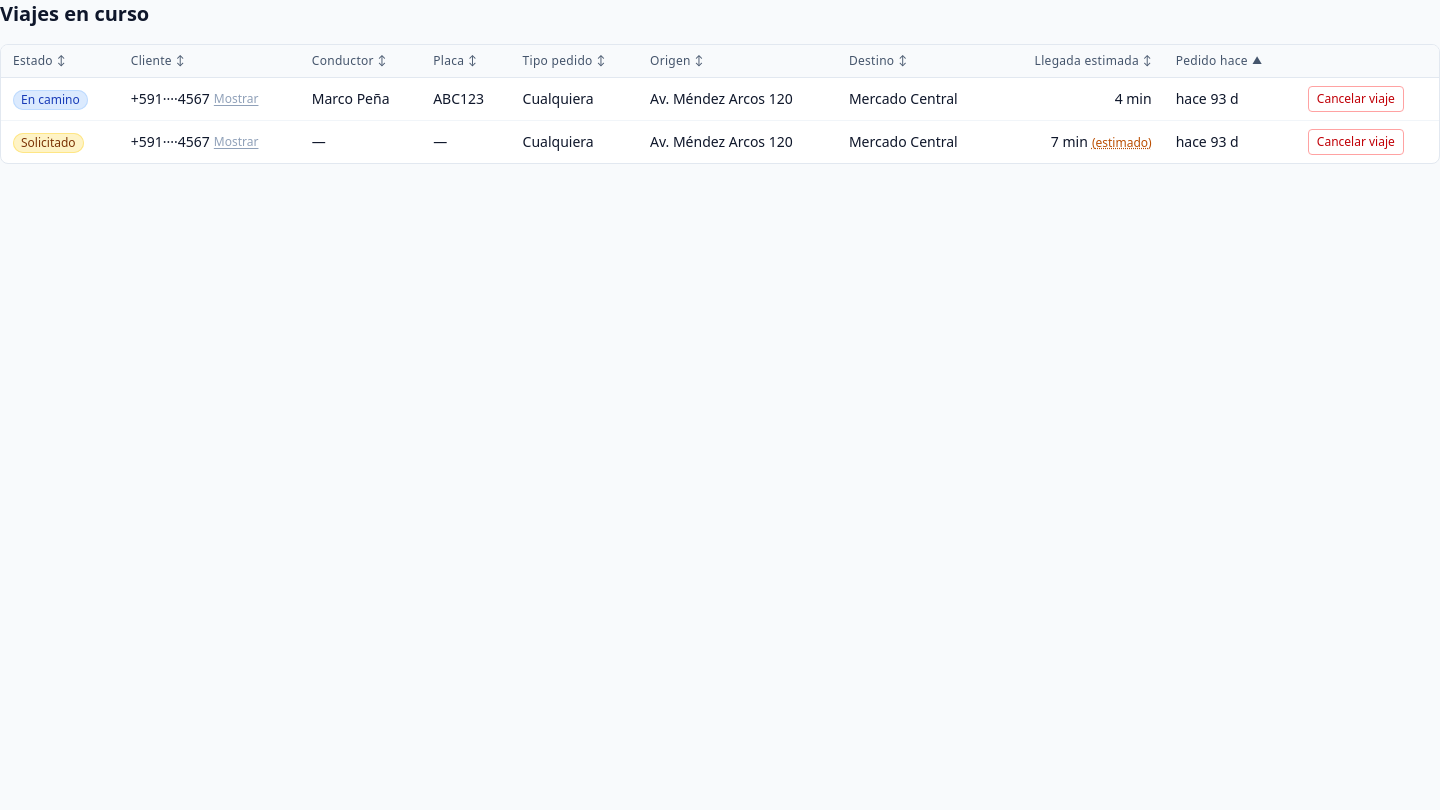
Test: cancelación forzada › confirmar envía el motivo y refresca el tablero
Click the button "Cancelar viaje" in the row of "En camino".
click(1356, 99)  # box x1=1308 y1=86 x2=1404 y2=112
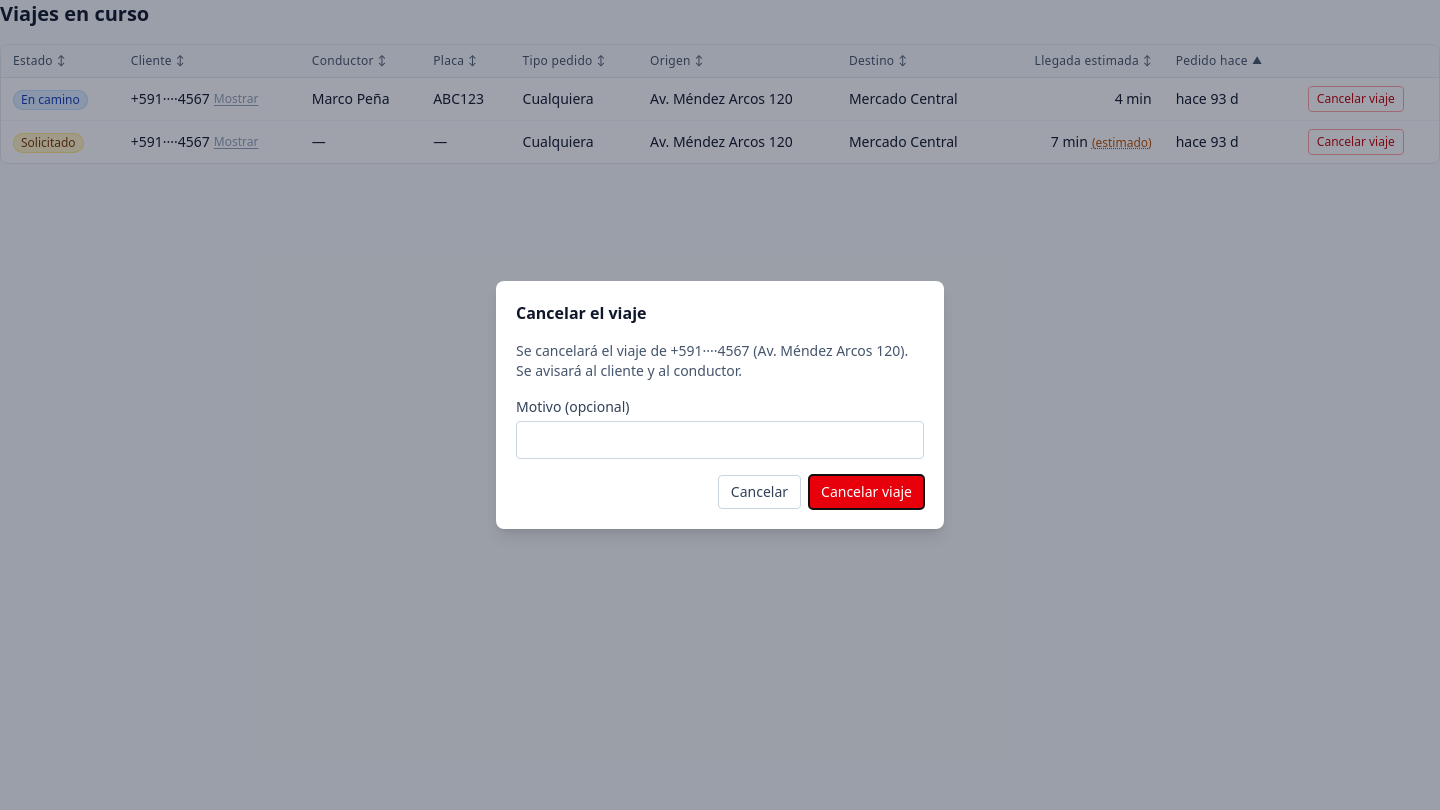
Type "cliente no apareció" into the field labelled "Motivo (opcional)".
click(720, 440); type("cliente no apareció")  # box x1=516 y1=421 x2=924 y2=459
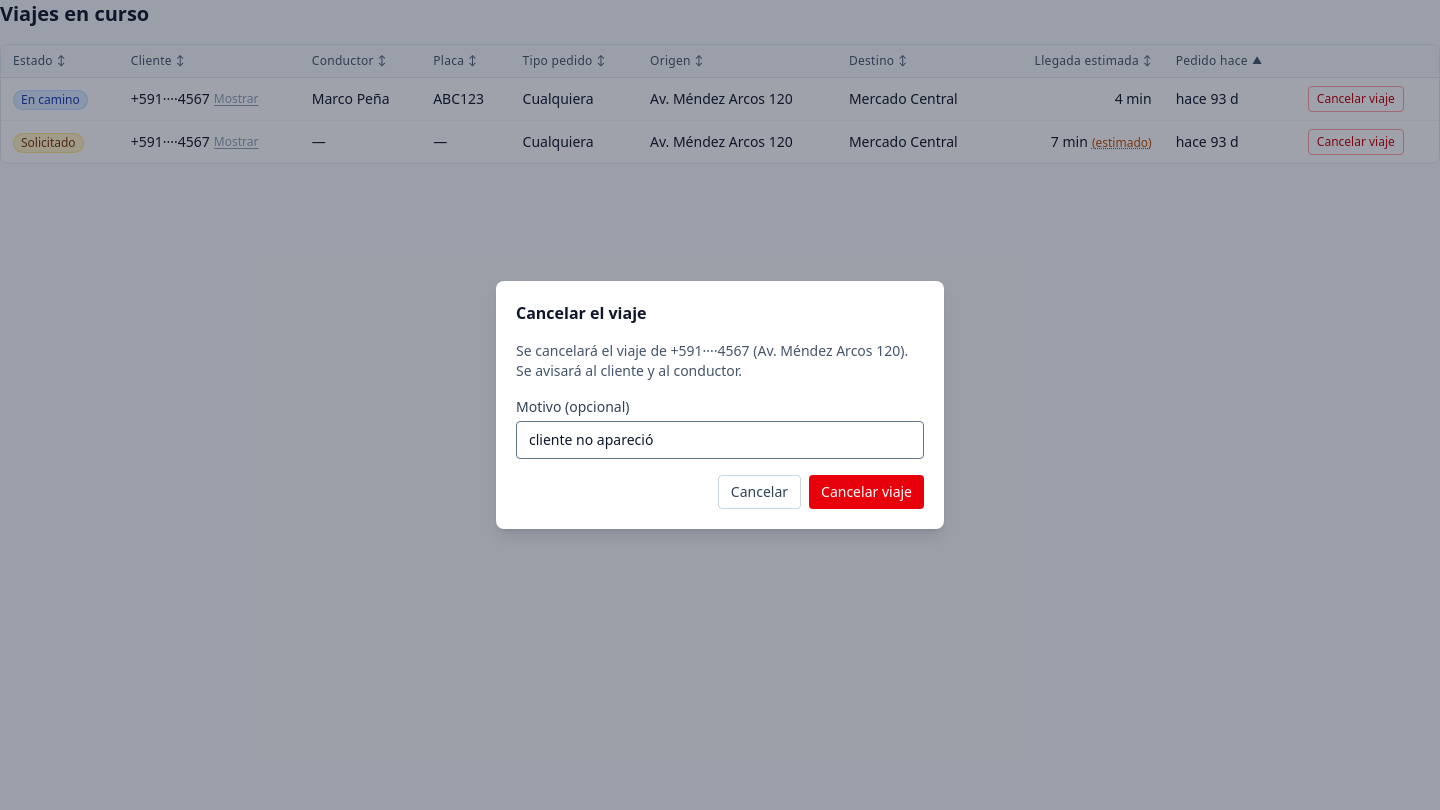
Click the button "Cancelar viaje".
click(866, 492)  # box x1=809 y1=475 x2=924 y2=509
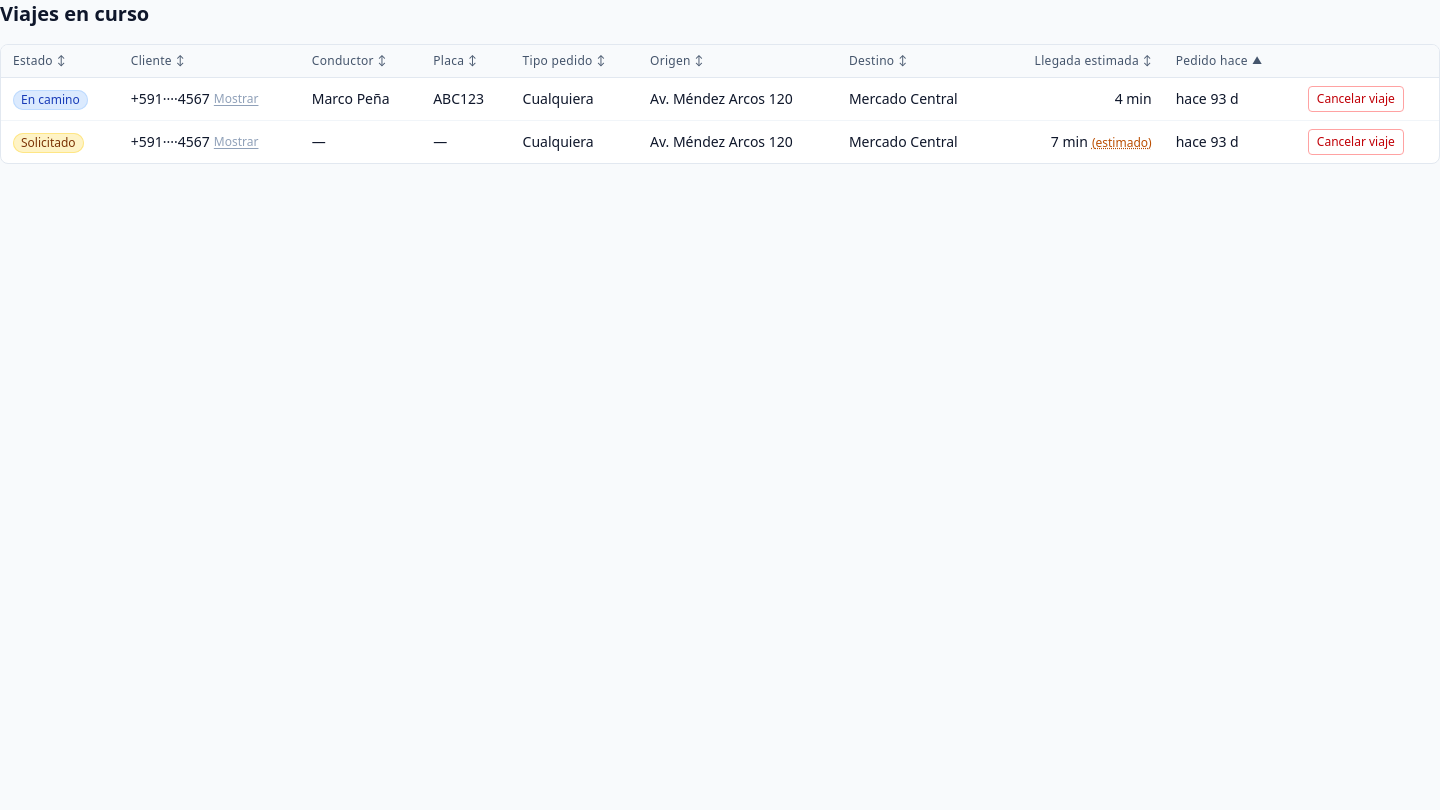
Expected: the table is shown, x1=1 y1=45 x2=1439 y2=163
Result: the dialog is gone
